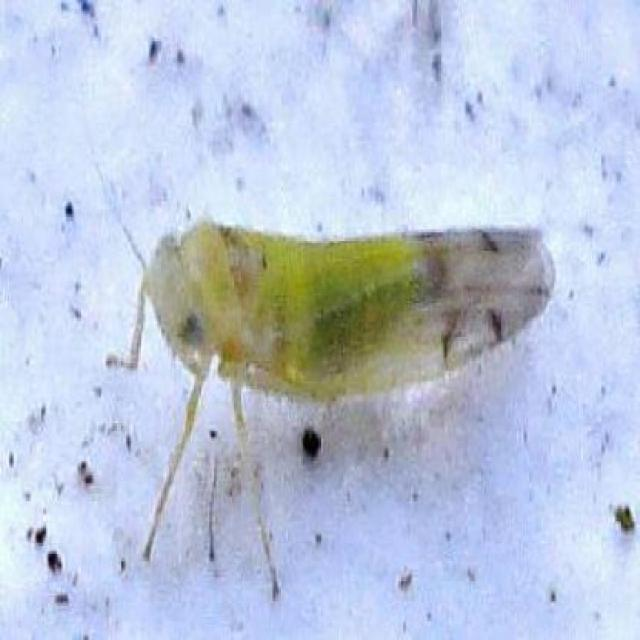green-leafhopper: (130, 202, 548, 422)
